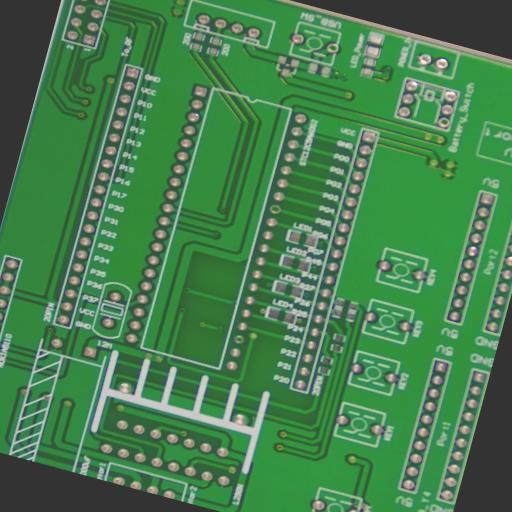missing_hole: (323, 40, 339, 54), (230, 332, 244, 346), (267, 202, 281, 215), (436, 116, 450, 128)
